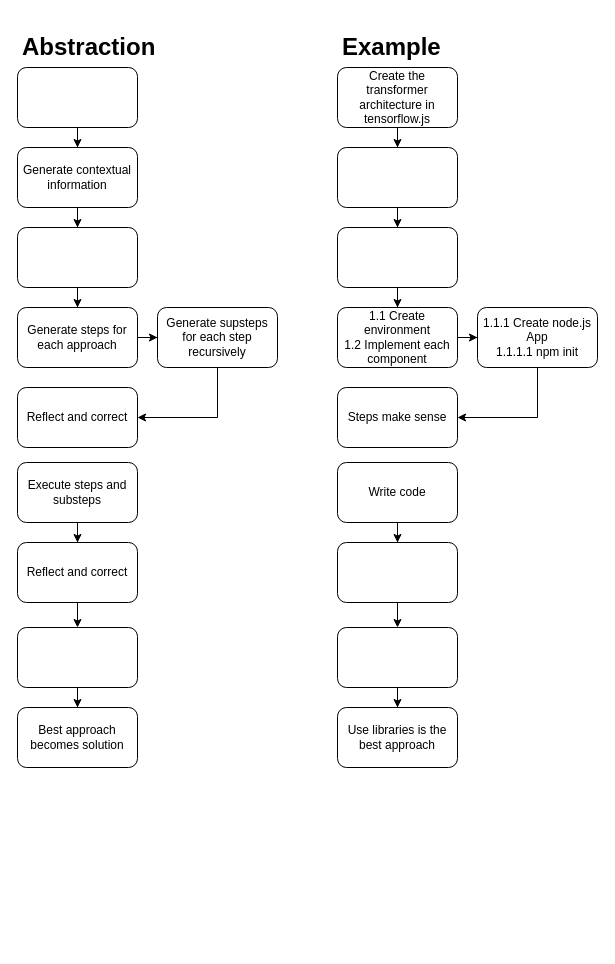
This 615x964 diagram has some shape labels left out. Each missing label, with the box of its shape:
- Transformers are neural networks that...: (336, 146, 458, 208)
1. Implement from scratch 2. Use libraries: (336, 226, 458, 288)
1. Use libraries 2. Implement from scratch: (336, 626, 458, 688)
Code uses Pseudocode, use working code instead: (336, 542, 458, 602)
Generate Approaches: (16, 226, 138, 288)
Prompt: (16, 66, 138, 128)
Rank approaches: (16, 626, 138, 688)
